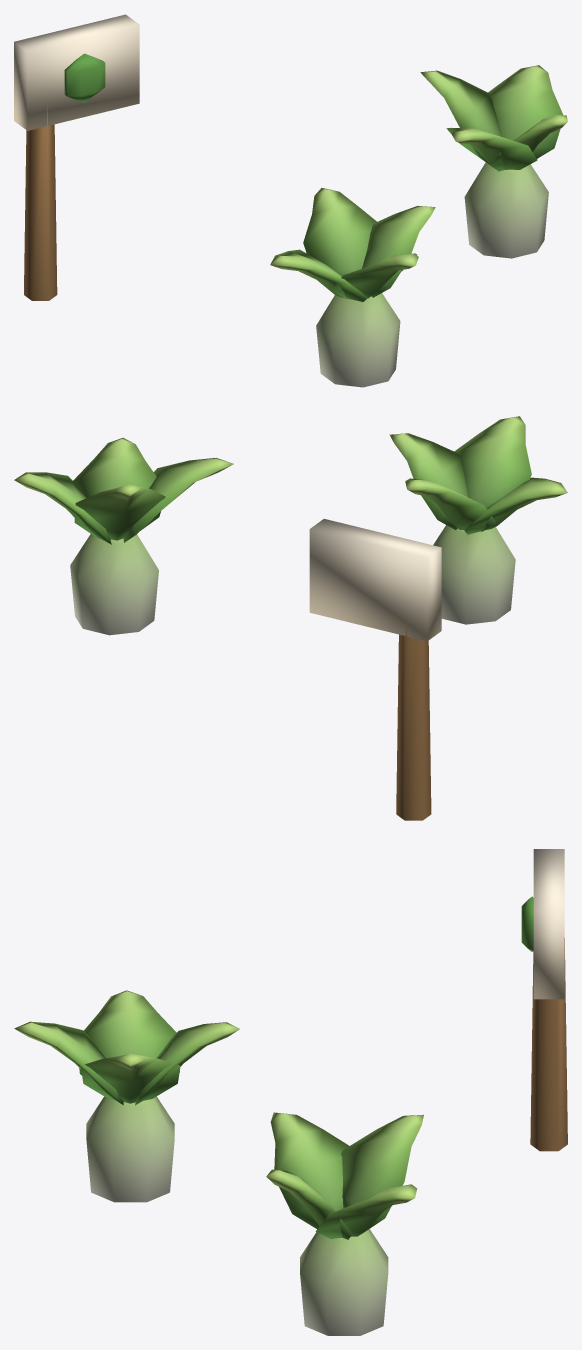
Rendered from prop-crop-daikon-young.glb.
3 views of the same model, one above another, from view 1: azimuth 30°, elevation 25°; view 2: azimuth 150°, elevation 25°; view 3: azimuth 270°, elevation 25° (orthographic). The views are drawn at different scales.
Parts seen in each view (by area): view 1: body, leaf; view 2: body, leaf; view 3: body, leaf.
Boxes of the visible parts, x1,y1,x2,y2 form: body: (14, 14, 548, 387); leaf: (270, 65, 567, 301); body: (70, 519, 515, 820); leaf: (14, 416, 567, 544); body: (86, 849, 567, 1335); leaf: (14, 990, 423, 1239).
Size of the model in its own units: 0.6972 by 0.3675 by 0.6484.
